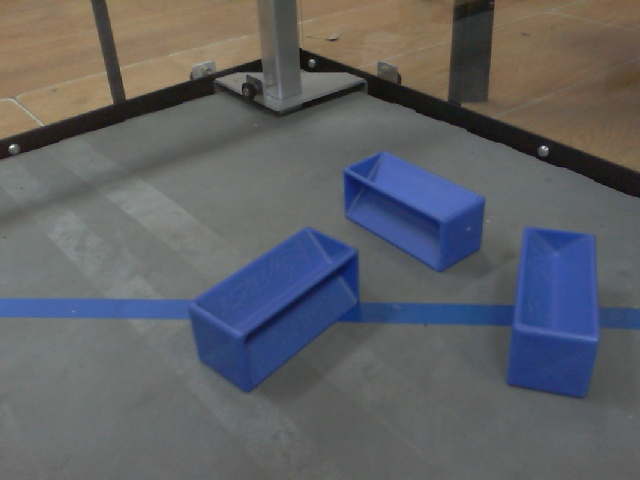BlueSample: (187, 223, 364, 397), (335, 148, 489, 278), (503, 224, 604, 401)
